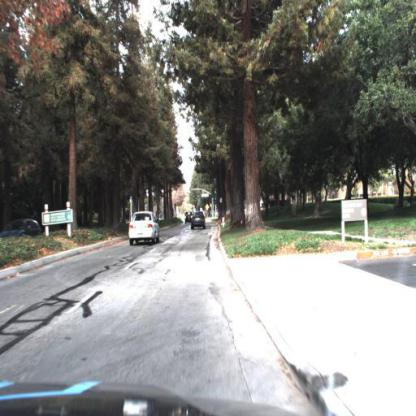car: (128, 209, 163, 249), (1, 218, 42, 248), (191, 210, 207, 231), (185, 211, 192, 227)
